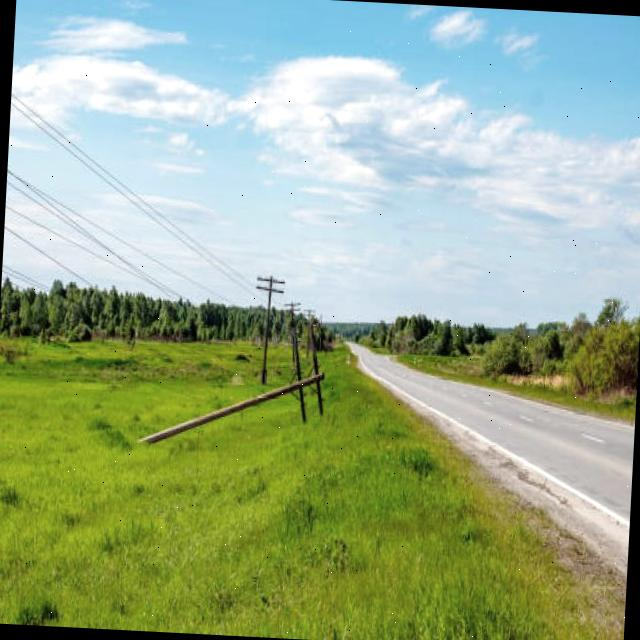Broken Pole: (133, 330, 328, 449)
